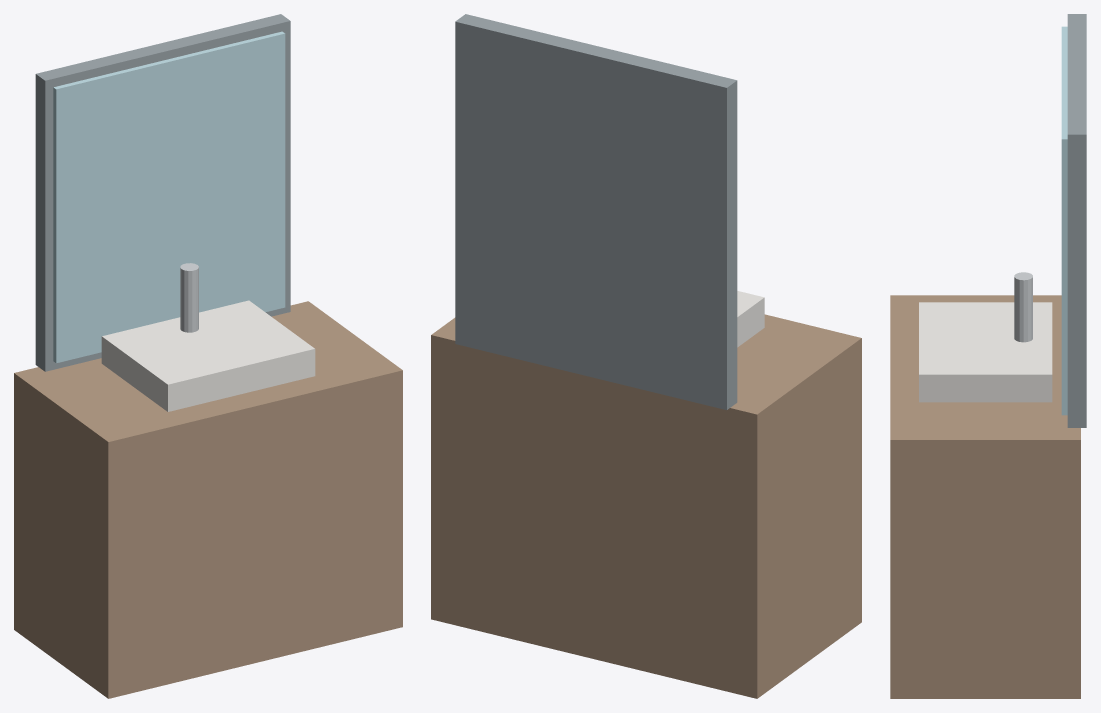
Rendered from spa_vanity.glb.
3 renders of one model, left to right at view 1: azimuth 30°, elevation 25°; view 2: azimuth 150°, elevation 25°; view 3: azimuth 270°, elevation 25°, orthographic. The views are drawn at different scales.
Visible parts, largest first — view 1: p000, p003, p001, p004, p002; view 2: p000, p004, p001; view 3: p000, p001, p004, p003, p002.
Part boxes in pixels (x1=…): p000: x1=14, y1=301, x2=402, y2=698; p003: x1=53, y1=31, x2=285, y2=363; p001: x1=101, y1=300, x2=315, y2=411; p004: x1=35, y1=14, x2=290, y2=371; p002: x1=180, y1=263, x2=198, y2=332; p000: x1=431, y1=314, x2=861, y2=698; p004: x1=455, y1=14, x2=737, y2=410; p001: x1=737, y1=291, x2=764, y2=347; p000: x1=890, y1=295, x2=1080, y2=698; p001: x1=919, y1=302, x2=1052, y2=402; p004: x1=1067, y1=14, x2=1086, y2=427; p003: x1=1061, y1=26, x2=1067, y2=415; p002: x1=1014, y1=272, x2=1032, y2=342.
Size of the model in its own units: 0.9 by 1.6 by 0.515.
